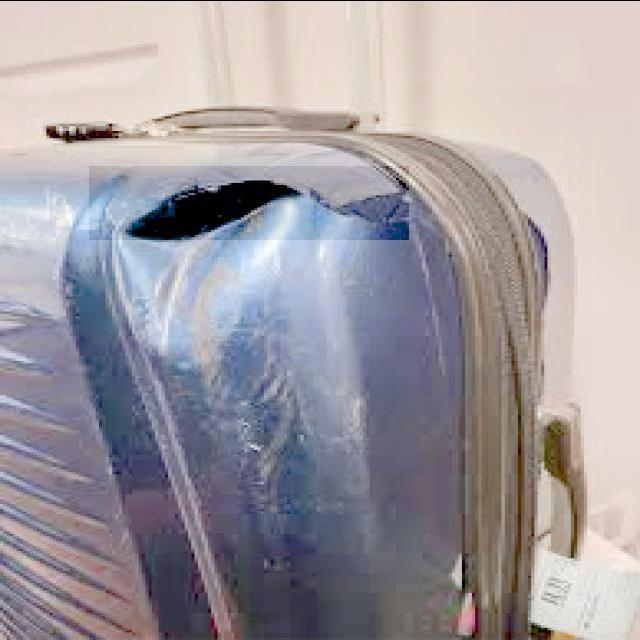Damage-bag: (128, 179, 299, 239), (325, 192, 409, 222), (528, 219, 546, 282), (311, 192, 323, 201)
